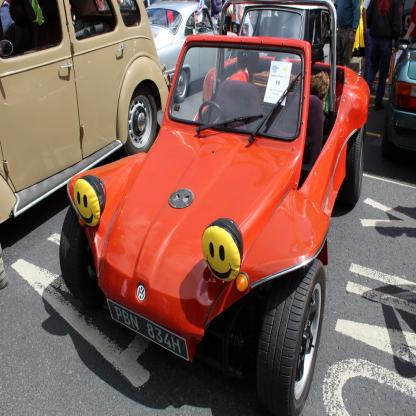Car: (1, 1, 172, 225), (146, 2, 238, 104), (382, 42, 416, 165)
